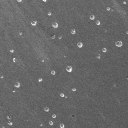corrosion: (114, 39, 123, 48), (76, 40, 84, 49), (13, 81, 22, 89), (65, 65, 73, 73), (51, 21, 59, 29), (30, 19, 37, 26), (43, 106, 51, 112), (48, 119, 54, 126), (59, 92, 66, 98), (70, 28, 76, 35), (95, 19, 101, 26), (105, 6, 112, 12), (50, 69, 56, 75), (89, 14, 95, 20), (101, 47, 107, 53), (37, 77, 43, 82), (51, 113, 57, 118), (7, 121, 13, 126), (59, 123, 65, 128), (9, 48, 14, 53), (47, 11, 52, 16), (71, 87, 77, 91), (12, 57, 16, 63), (42, 1, 46, 3)
